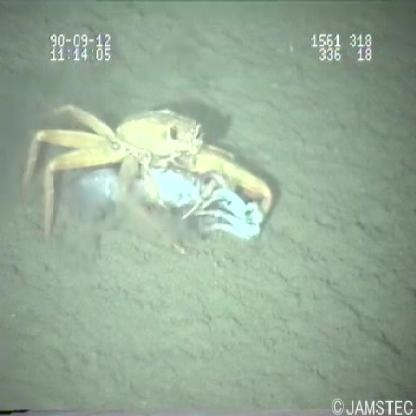Bio: (16, 100, 280, 247)
